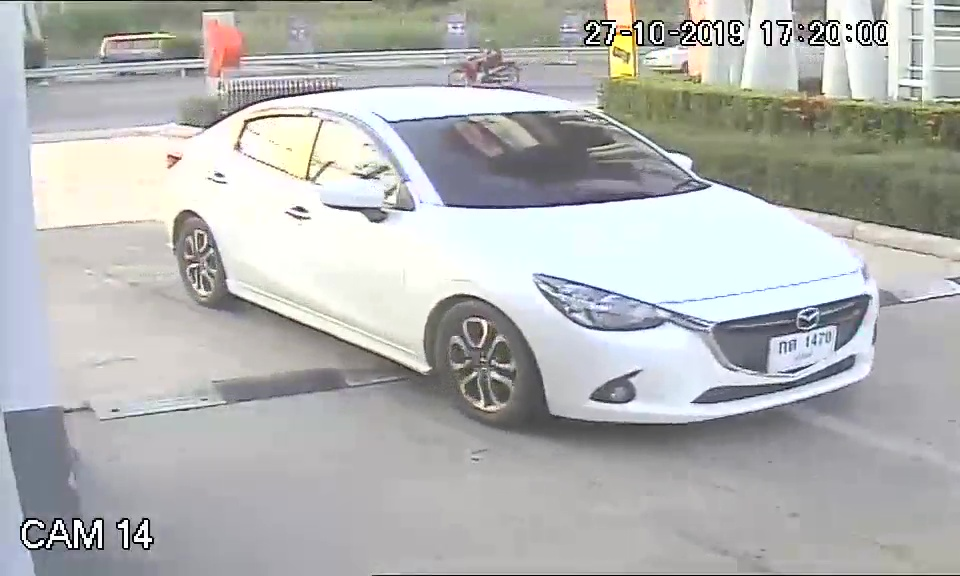sedan: (154, 79, 885, 431)
